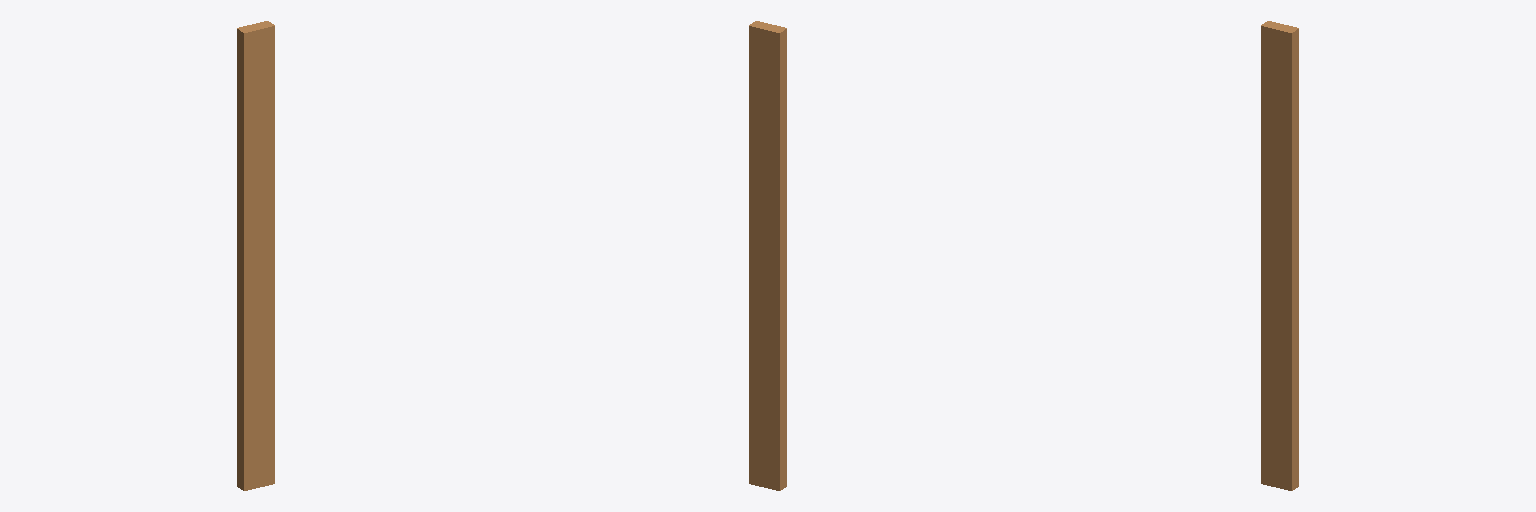
robot.urdf — plate:
<robot name="plate">
<link name="link">
   <inertial>
     <origin xyz="0 0 0" rpy="0 0 0"/>
     <mass value=".0"/>
     <inertia ixx="0"  ixy="0"  ixz="0" iyy="0" iyz="0" izz="0" />
   </inertial>

   <visual>
     <origin xyz="0 0 0" rpy="0 0 0" />
     <geometry>
       <box size="0.05 0.02 0.7" />
     </geometry>
    <material name="brawn">
     <color rgba="0.8 0.6 0.4 1"/>
     </material>
   </visual>

   <collision>
     <origin xyz="0 0 0" rpy="0 0 0" />
     <geometry>
       <box size="0.05 0.02 0.7" />
     </geometry>
   </collision>

 </link>
 </robot>

--- What the picture shows (computed from the rendered views, not written in the file) ---
3 views of the same robot in one strip: view 1: azimuth 30°, elevation 25°; view 2: azimuth 150°, elevation 25°; view 3: azimuth 330°, elevation 25° (orthographic).
Robot: plate — 1 links, 0 joints (none); root link link; default pose: every joint at zero.
Links seen in each view (by area): view 1: link; view 2: link; view 3: link.
Link boxes in pixels (x1=…): link: x1=237, y1=21, x2=274, y2=490; link: x1=749, y1=21, x2=786, y2=490; link: x1=1261, y1=21, x2=1298, y2=490.
Size in the robot's own frame: 0.05 by 0.02 by 0.7 metres.
Geometry: primitives only (box / cylinder / sphere), no mesh files.